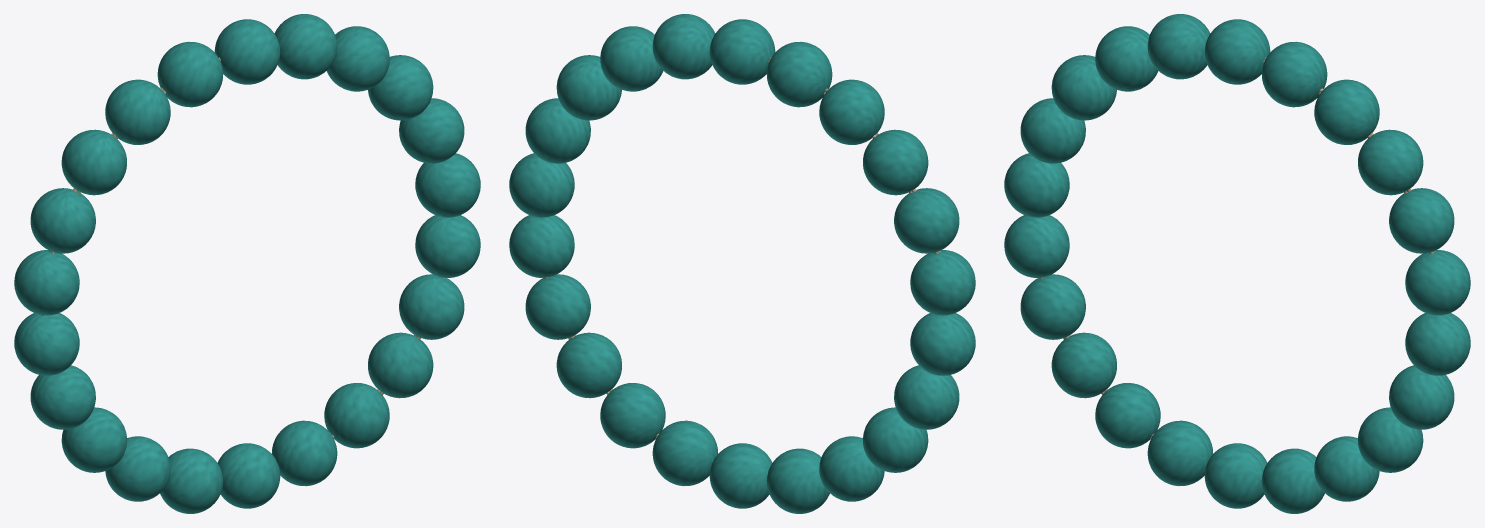
File: turquoise-placeholder.glb
3 views of the same model, side by side, from view 1: azimuth 30°, elevation 25°; view 2: azimuth 150°, elevation 25°; view 3: azimuth 330°, elevation 25° (orthographic).
Parts seen in each view (by area): view 1: 10 turquoise, 8 turquoise, 9 turquoise, 20 turquoise, 21 turquoise, 19 turquoise, 11 turquoise, 7 turquoise, 22 turquoise, 12 turquoise, 6 turquoise, 18 turquoise (+10 smaller); view 2: 10 turquoise, 8 turquoise, 9 turquoise, 20 turquoise, 21 turquoise, 19 turquoise, 11 turquoise, 7 turquoise, 22 turquoise, 12 turquoise, 6 turquoise, 18 turquoise (+10 smaller); view 3: 14 turquoise, 16 turquoise, 15 turquoise, 4 turquoise, 3 turquoise, 5 turquoise, 13 turquoise, 17 turquoise, 2 turquoise, 12 turquoise, 18 turquoise, 6 turquoise (+10 smaller).
Boxes of the visible parts, bbox=[...] form: 10 turquoise: bbox=[105, 79, 170, 144]; 8 turquoise: bbox=[30, 188, 95, 253]; 9 turquoise: bbox=[61, 129, 126, 195]; 20 turquoise: bbox=[368, 332, 433, 398]; 21 turquoise: bbox=[324, 383, 389, 448]; 19 turquoise: bbox=[399, 274, 464, 339]; 11 turquoise: bbox=[157, 41, 223, 107]; 7 turquoise: bbox=[14, 250, 79, 315]; 22 turquoise: bbox=[271, 420, 337, 486]; 12 turquoise: bbox=[214, 19, 280, 84]; 6 turquoise: bbox=[14, 313, 79, 375]; 18 turquoise: bbox=[415, 215, 480, 277]; 10 turquoise: bbox=[819, 79, 884, 144]; 8 turquoise: bbox=[894, 188, 959, 253]; 9 turquoise: bbox=[863, 129, 928, 195]; 20 turquoise: bbox=[556, 332, 621, 398]; 21 turquoise: bbox=[600, 383, 665, 448]; 19 turquoise: bbox=[525, 274, 590, 339]; 11 turquoise: bbox=[766, 41, 832, 107]; 7 turquoise: bbox=[910, 250, 975, 315]; 22 turquoise: bbox=[652, 420, 718, 486]; 12 turquoise: bbox=[709, 19, 775, 84]; 6 turquoise: bbox=[910, 313, 975, 375]; 18 turquoise: bbox=[509, 215, 574, 277]; 14 turquoise: bbox=[1314, 79, 1379, 144]; 16 turquoise: bbox=[1389, 188, 1454, 253]; 15 turquoise: bbox=[1358, 129, 1423, 195]; 4 turquoise: bbox=[1051, 332, 1116, 398]; 3 turquoise: bbox=[1095, 383, 1160, 448]; 5 turquoise: bbox=[1020, 274, 1085, 339]; 13 turquoise: bbox=[1261, 41, 1327, 107]; 17 turquoise: bbox=[1405, 250, 1470, 315]; 2 turquoise: bbox=[1147, 420, 1213, 486]; 12 turquoise: bbox=[1204, 19, 1270, 84]; 18 turquoise: bbox=[1405, 313, 1470, 375]; 6 turquoise: bbox=[1004, 215, 1069, 277].
Bounding box in the file's own units: 0.0645 × 0.0651 × 0.008.
